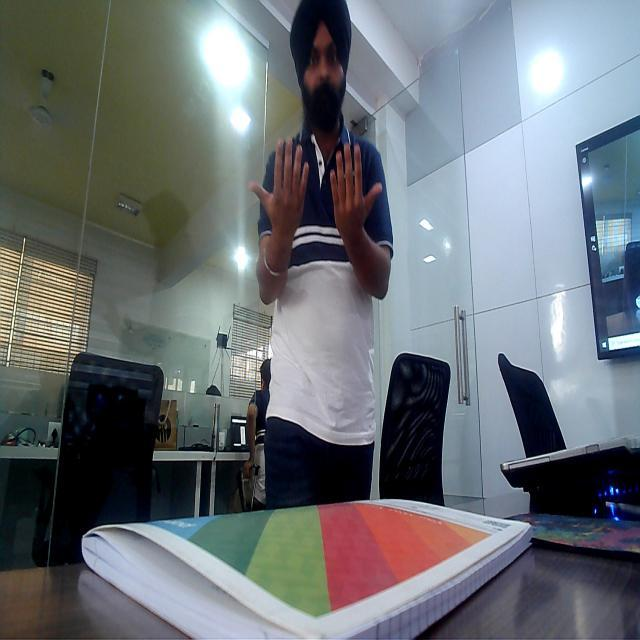without_gloves: (328, 124, 392, 256), (250, 132, 312, 245)
